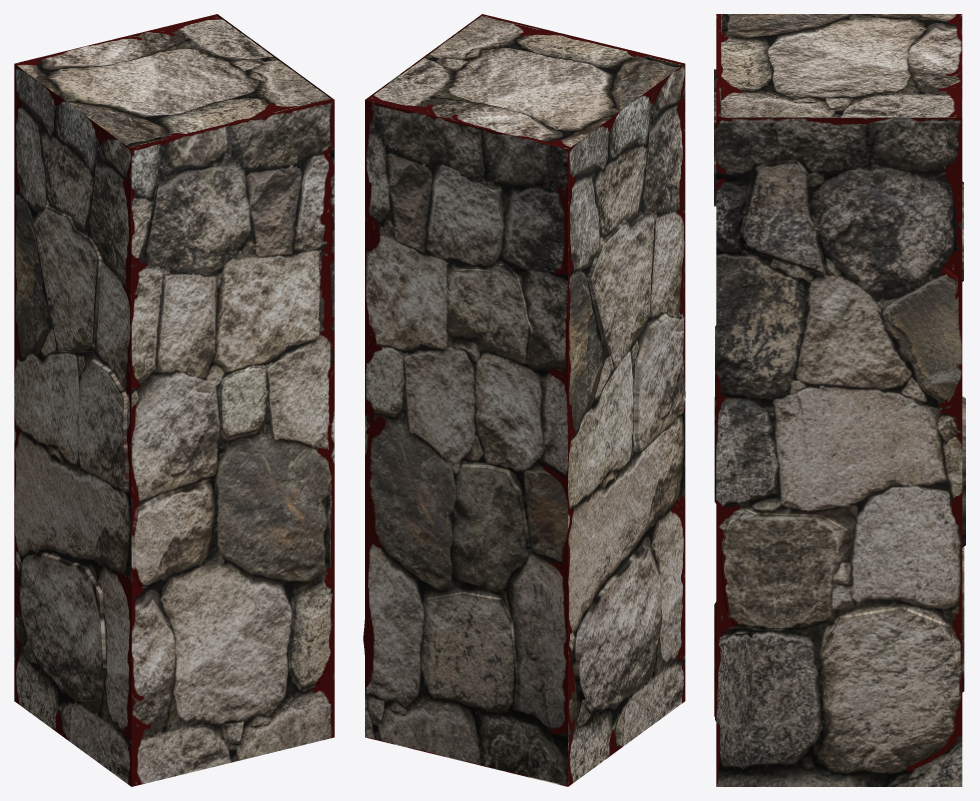
The model's file is Muro41.obj.
3 views of the same model, side by side, from view 1: azimuth 30°, elevation 25°; view 2: azimuth 150°, elevation 25°; view 3: azimuth 270°, elevation 25° (orthographic). The views are drawn at different scales.
Parts seen in each view (by area): view 1: Cube; view 2: Cube; view 3: Cube.
Boxes of the visible parts, bbox=[...] form: Cube: bbox=[14, 14, 334, 786]; Cube: bbox=[363, 14, 685, 786]; Cube: bbox=[714, 14, 965, 786].
Size of the model in its own units: 2.05 by 6 by 2.05.
